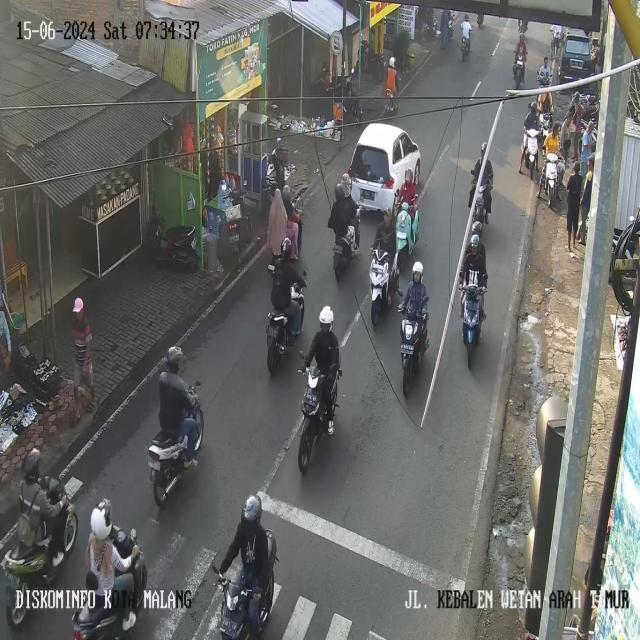Helmet: (90, 499, 111, 539), (22, 448, 39, 483), (242, 495, 261, 522), (166, 346, 183, 370), (319, 306, 333, 324), (280, 237, 291, 259), (341, 173, 351, 196), (334, 183, 344, 200), (471, 220, 481, 236), (412, 261, 423, 274), (470, 234, 479, 247), (405, 169, 413, 181), (383, 208, 392, 218), (481, 142, 487, 155), (389, 57, 396, 68), (401, 202, 409, 211), (572, 91, 579, 100), (529, 102, 536, 110), (519, 33, 524, 39), (464, 14, 468, 20)
Number Plate: (220, 618, 238, 635), (6, 571, 19, 589), (303, 389, 316, 403), (266, 325, 278, 338), (148, 458, 159, 470), (361, 189, 374, 199), (401, 344, 413, 353), (229, 233, 238, 242)
